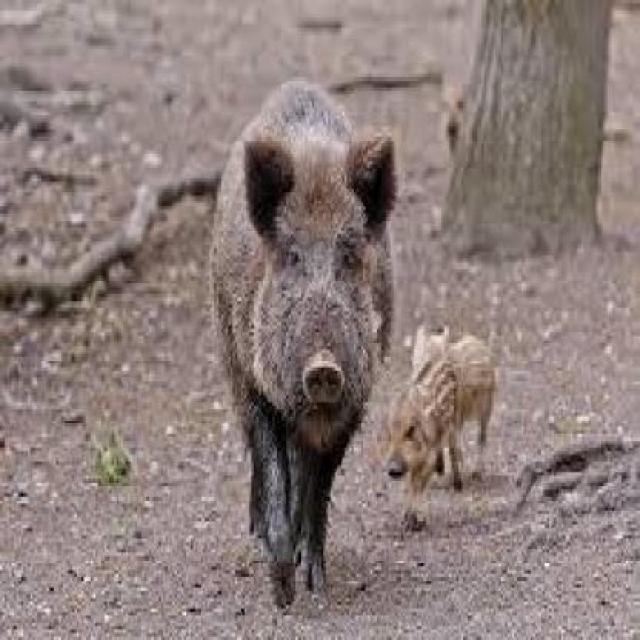wildboar: (202, 79, 401, 613), (402, 312, 501, 490), (382, 350, 468, 542)
